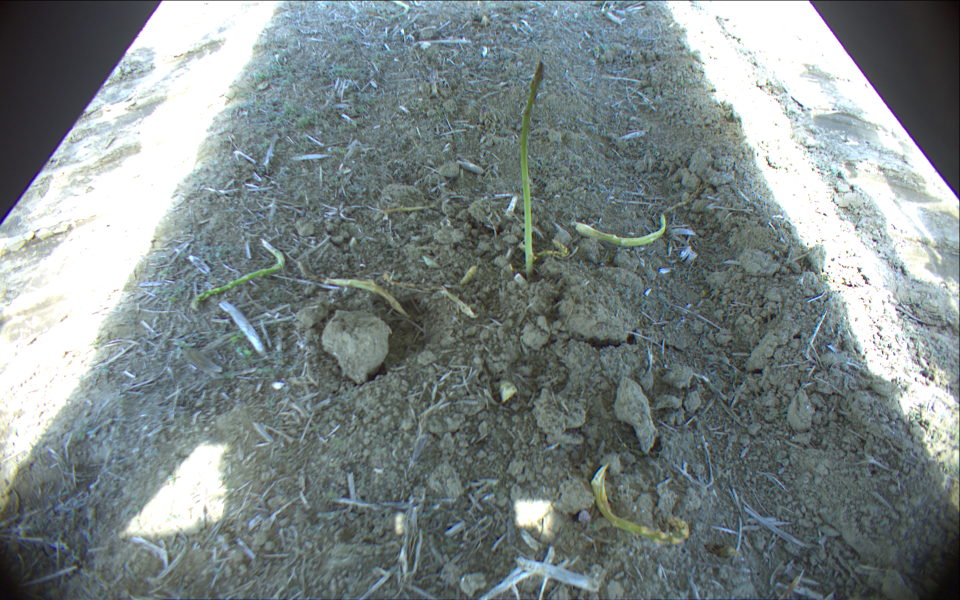aspa: (592, 464, 689, 547), (189, 239, 286, 309), (521, 61, 545, 273), (573, 213, 667, 247), (326, 278, 402, 314), (387, 1, 410, 19)
